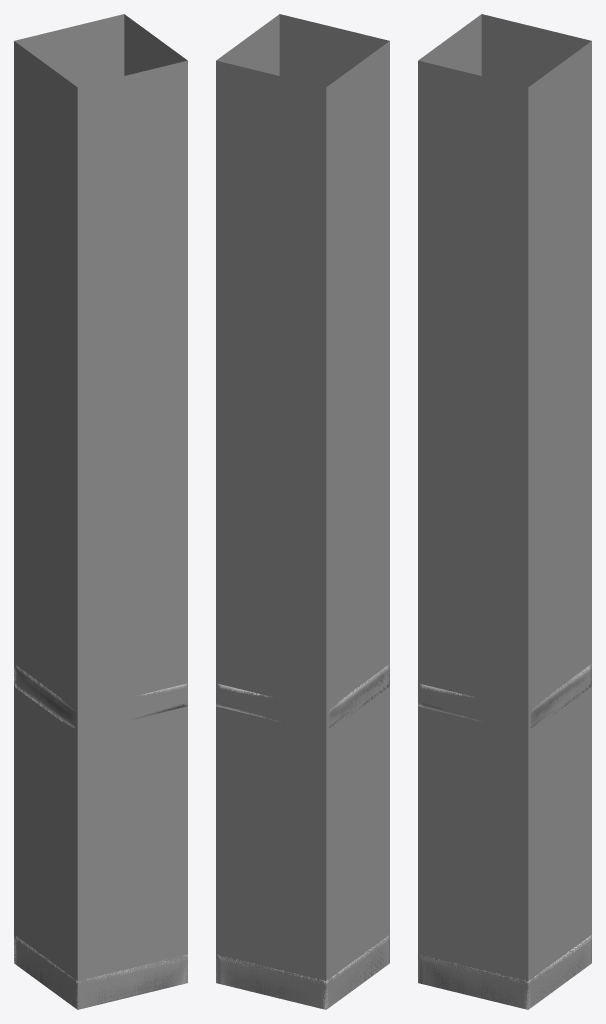
The model's file is stonemonument05.fbx.
The picture shows the model from 3 angles, left to right: view 1: azimuth 30°, elevation 25°; view 2: azimuth 150°, elevation 25°; view 3: azimuth 330°, elevation 25°; orthographic projection.
Parts seen in each view (by area): view 1: col_w, col_o, mdl_LOD0; view 2: col_w, col_o, mdl_LOD0; view 3: col_w, col_o, mdl_LOD0.
Part boxes in pixels (x1=…): col_w: x1=14, y1=14, x2=187, y2=1009; col_o: x1=14, y1=683, x2=187, y2=1009; mdl_LOD0: x1=14, y1=664, x2=187, y2=1009; col_w: x1=216, y1=14, x2=389, y2=1008; col_o: x1=216, y1=680, x2=389, y2=1009; mdl_LOD0: x1=216, y1=664, x2=389, y2=1009; col_w: x1=418, y1=14, x2=591, y2=1008; col_o: x1=418, y1=680, x2=591, y2=1009; mdl_LOD0: x1=418, y1=664, x2=591, y2=1009.
Size of what is drawn, in the model's own units: 100 by 800 by 100.
